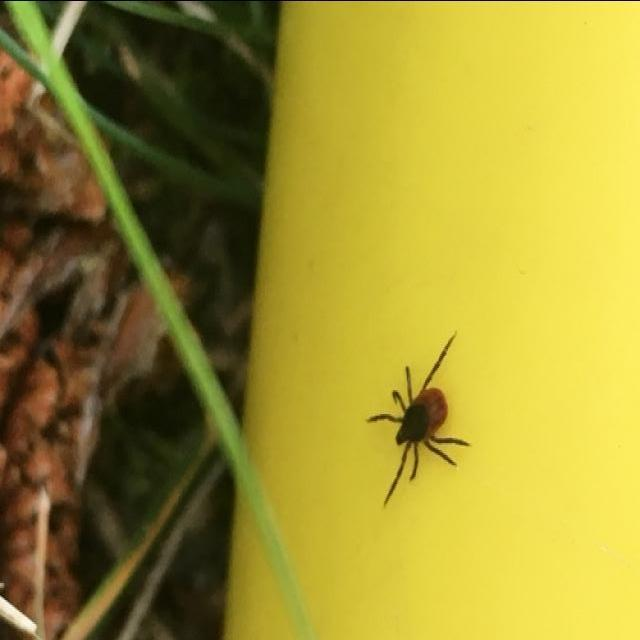Ixodes Ricinus-F: (369, 331, 474, 509)
